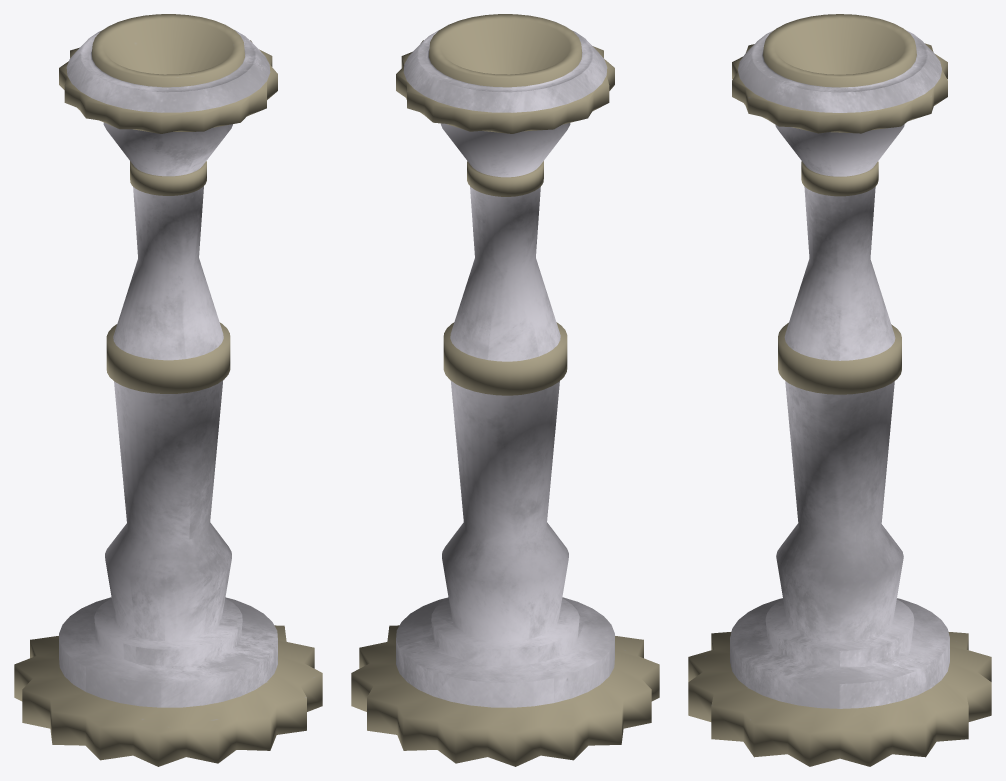
Rendered from TallPillar.fbx.
3 views of the same model, side by side, from view 1: azimuth 30°, elevation 25°; view 2: azimuth 150°, elevation 25°; view 3: azimuth 270°, elevation 25° (orthographic).
Visible parts, largest first — view 1: TallLowPoly; view 2: TallLowPoly; view 3: TallLowPoly.
Boxes of the visible parts, x1,y1,x2,y2 form: TallLowPoly: (14, 14, 322, 766); TallLowPoly: (351, 14, 659, 766); TallLowPoly: (688, 14, 991, 766).
Bounding box in the file's own units: 0.7604 × 1.82 × 0.7604.
Materials: 1 (1 with a texture image).
